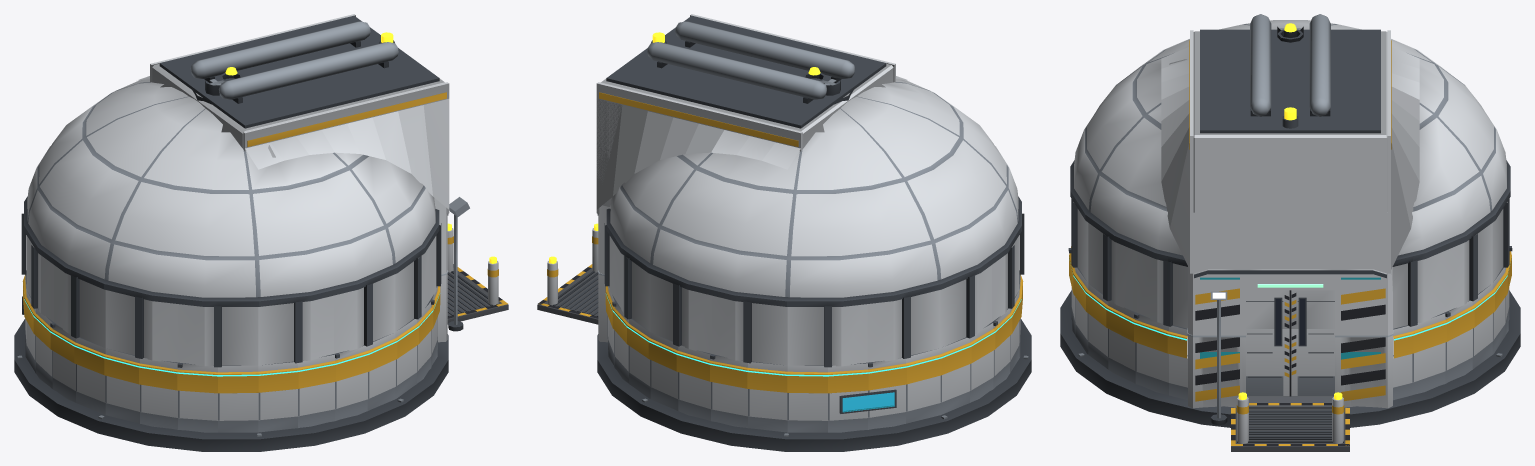
Rendered from airlock_l.glb.
3 views of the same model, side by side, from view 1: azimuth 30°, elevation 25°; view 2: azimuth 150°, elevation 25°; view 3: azimuth 270°, elevation 25° (orthographic). The views are drawn at different scales.
Parts seen in each view (by area): view 1: Roof, Base, Porch, Wall_21, Upper_21, Wall_22, Wall_20, Upper_19, Upper_22, Upper_20, Wall_19, Wall_23 (+22 smaller); view 2: Roof, Base, Porch, Wall_10, Upper_10, Wall_09, Upper_12, Upper_09, Upper_11, Wall_08, Wall_13, Upper_07 (+23 smaller); view 3: Roof, OuterFrameTop, OuterFrame, Base, Porch, OuterDoorL, OuterDoorR, Wall_28, Wall_03, Upper_04, Upper_27, Upper_03 (+17 smaller).
Boxes of the visible parts, x1=… form: Roof: x1=24, y1=14, x2=449, y2=301; Base: x1=14, y1=318, x2=448, y2=451; Porch: x1=447, y1=223, x2=508, y2=331; Wall_21: x1=218, y1=365, x2=258, y2=432; Upper_21: x1=217, y1=301, x2=258, y2=367; Wall_22: x1=258, y1=361, x2=298, y2=432; Wall_20: x1=177, y1=362, x2=217, y2=432; Upper_19: x1=138, y1=292, x2=178, y2=362; Upper_22: x1=258, y1=297, x2=298, y2=365; Upper_20: x1=177, y1=298, x2=217, y2=367; Wall_19: x1=139, y1=357, x2=177, y2=429; Wall_23: x1=298, y1=354, x2=335, y2=427; Roof: x1=596, y1=14, x2=1021, y2=301; Base: x1=597, y1=318, x2=1031, y2=451; Porch: x1=537, y1=223, x2=598, y2=324; Wall_10: x1=787, y1=365, x2=827, y2=432; Upper_10: x1=787, y1=301, x2=828, y2=367; Wall_09: x1=747, y1=361, x2=787, y2=432; Upper_12: x1=867, y1=292, x2=907, y2=362; Upper_09: x1=747, y1=297, x2=787, y2=365; Upper_11: x1=828, y1=298, x2=868, y2=367; Wall_08: x1=710, y1=354, x2=747, y2=427; Wall_13: x1=906, y1=348, x2=941, y2=423; Upper_07: x1=676, y1=280, x2=711, y2=353; Roof: x1=1070, y1=14, x2=1510, y2=273; OuterFrameTop: x1=1188, y1=208, x2=1392, y2=335; OuterFrame: x1=1188, y1=335, x2=1392, y2=408; Base: x1=1060, y1=290, x2=1520, y2=427; Porch: x1=1210, y1=347, x2=1349, y2=451; OuterDoorL: x1=1246, y1=329, x2=1290, y2=396; OuterDoorR: x1=1290, y1=329, x2=1334, y2=396; Wall_28: x1=1133, y1=313, x2=1168, y2=395; Wall_03: x1=1412, y1=313, x2=1447, y2=395; Upper_04: x1=1444, y1=230, x2=1475, y2=312; Upper_27: x1=1105, y1=230, x2=1136, y2=312; Upper_03: x1=1413, y1=244, x2=1445, y2=325.
Bounding box in the file's own units: 8.99 × 5.76 × 7.73.
